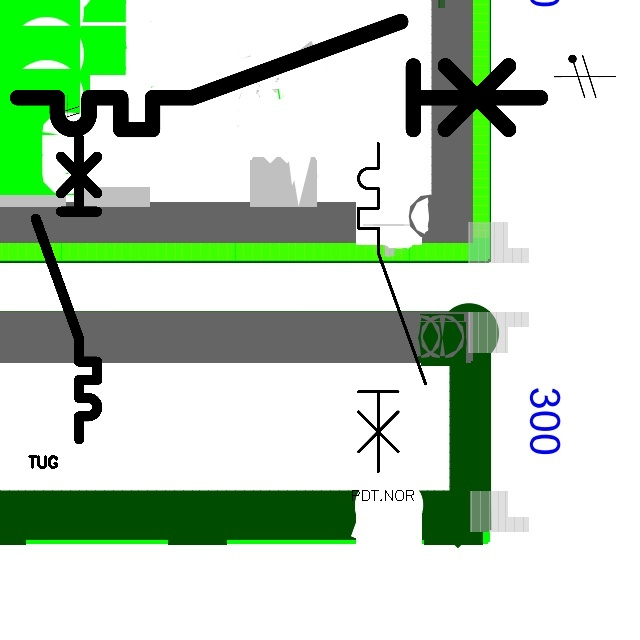interruptor_termomagnetico: (4, 8, 554, 143), (350, 135, 434, 480), (28, 130, 105, 446)
